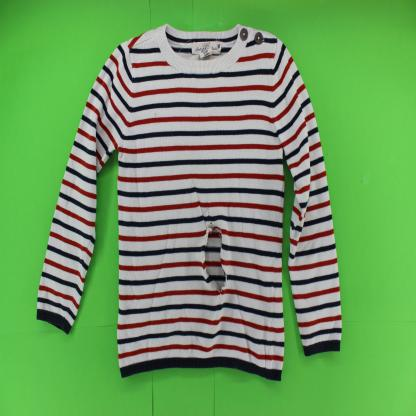hole: (201, 201, 230, 298)
